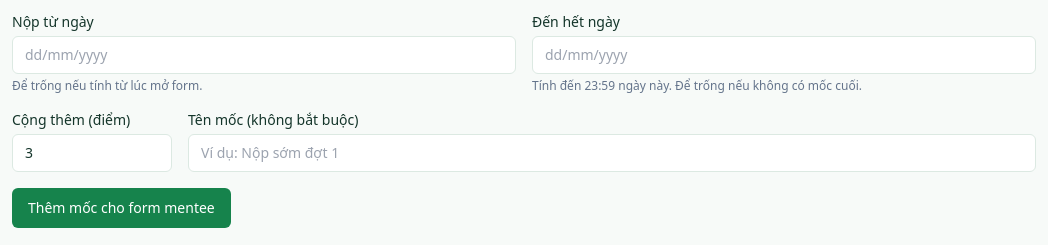
Scenario: 4. form nhập mốc › gõ dở thì báo ngay, và vẫn gửi chữ gõ dở (máy chủ từ chối) chứ không gửi rỗng
Type "100920" into the field labelled "Đến hết ngày" at (784, 55), box [532,36,1036,74]
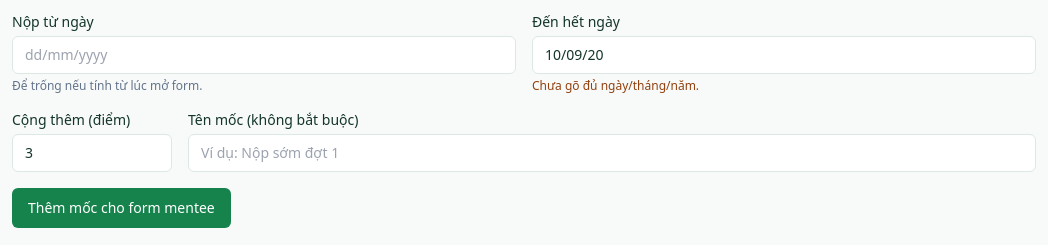
expect the text "Chưa gõ đủ ngày/tháng/năm." is shown: met, box [532,77,699,94]
